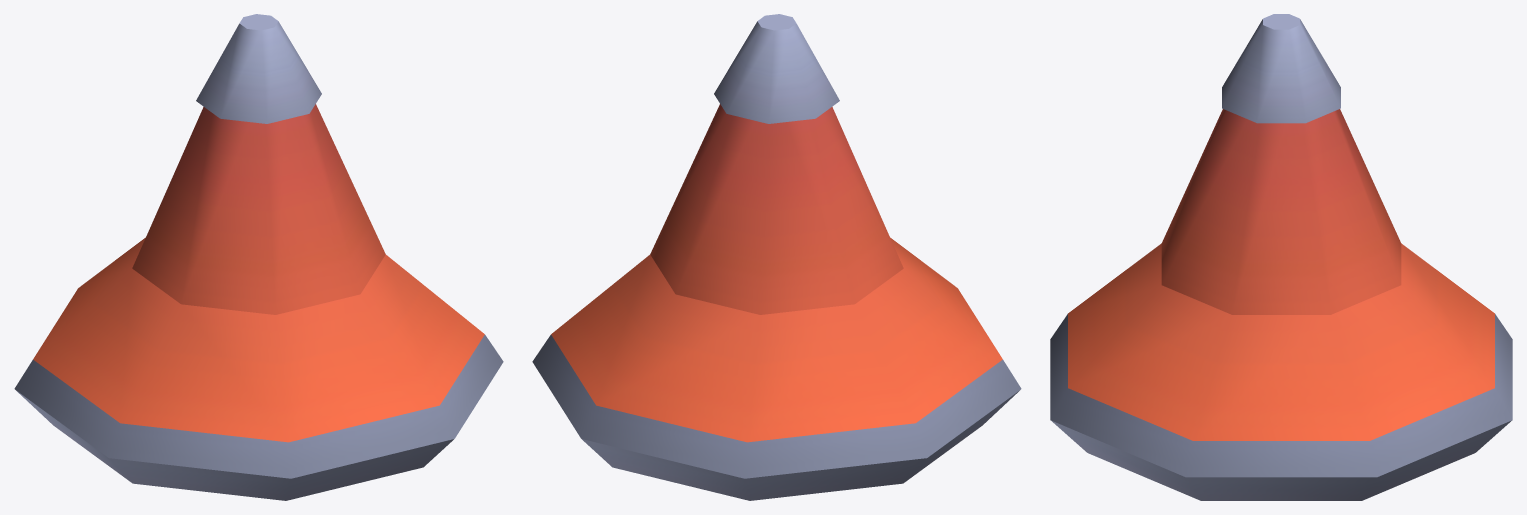
File: kenney-pirate-tower-roof.glb
3 renders of one model, left to right at view 1: azimuth 30°, elevation 25°; view 2: azimuth 150°, elevation 25°; view 3: azimuth 270°, elevation 25°, orthographic.
Parts seen in each view (by area): view 1: tower-roof; view 2: tower-roof; view 3: tower-roof.
Part boxes in pixels (x1,y1,x2,y2): tower-roof: (14,14,503,500); tower-roof: (532,14,1021,500); tower-roof: (1050,14,1512,500).
Size of the model in its own units: 3.63 by 3.44 by 3.63.
Materials: 1 (1 with a texture image).
